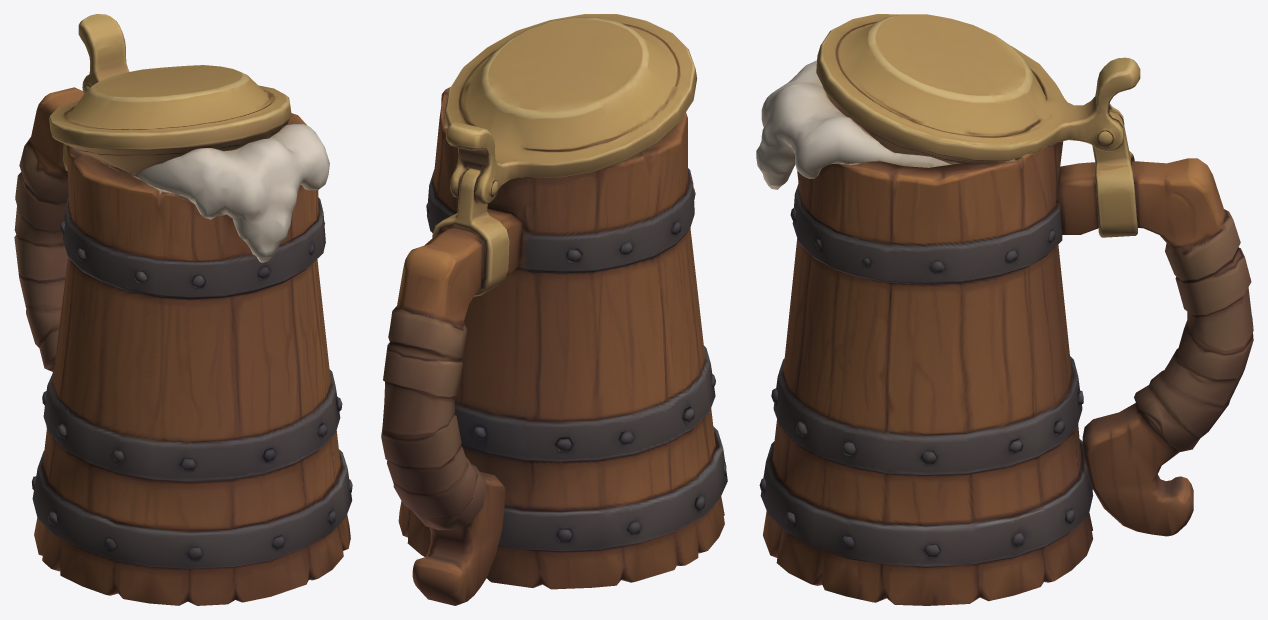
Rendered from friar_tankard_tripo.glb.
3 views of the same model, side by side, from view 1: azimuth 30°, elevation 25°; view 2: azimuth 150°, elevation 25°; view 3: azimuth 270°, elevation 25° (orthographic). The views are drawn at different scales.
Visible parts, largest first — view 1: tripo_node_f19ff378-d6ef-4d23-9429-7bcd092ee474; view 2: tripo_node_f19ff378-d6ef-4d23-9429-7bcd092ee474; view 3: tripo_node_f19ff378-d6ef-4d23-9429-7bcd092ee474.
Part boxes in pixels (bbox=[...]): tripo_node_f19ff378-d6ef-4d23-9429-7bcd092ee474: bbox=[14, 14, 352, 605]; tripo_node_f19ff378-d6ef-4d23-9429-7bcd092ee474: bbox=[381, 14, 727, 605]; tripo_node_f19ff378-d6ef-4d23-9429-7bcd092ee474: bbox=[756, 14, 1253, 605].
Bounding box in the file's own units: 0.6152 × 0.998 × 0.9082.
Materials: 1 (1 with a texture image).
